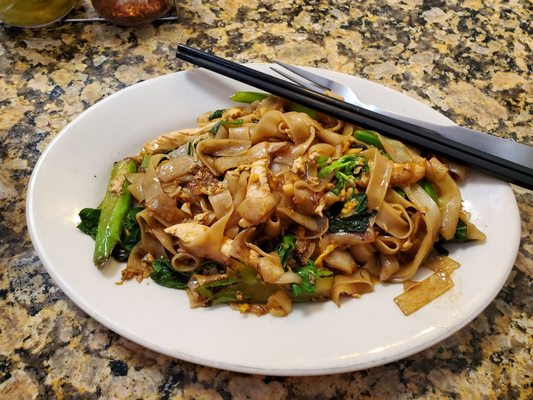burger: (174, 41, 533, 192)
sushi: (26, 63, 518, 381)
